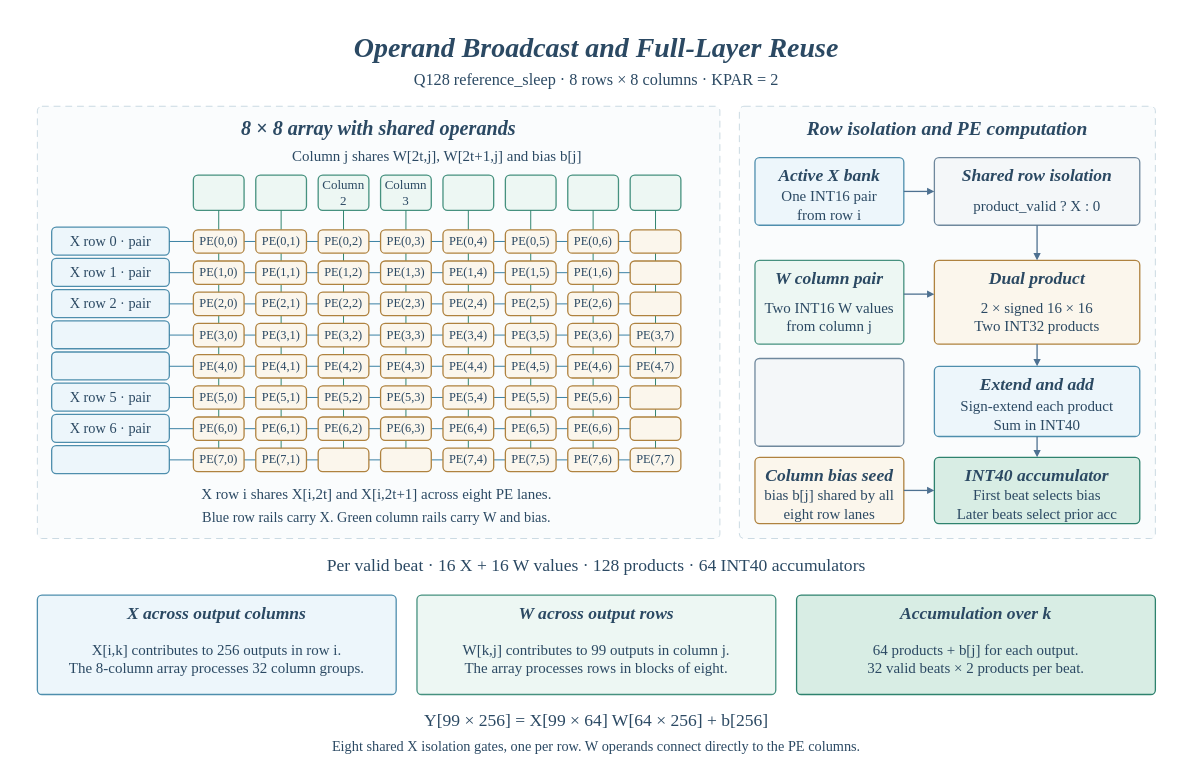
The diagram is 1192 pixels wide and 776 high, and some of its shapes have lost their labels. Here are the shapes that lost their labels. From the top down, the box of each, then its label:
(192, 174, 244, 211): Column 0
(255, 174, 307, 211): Column 1
(442, 174, 494, 211): Column 4
(504, 174, 556, 211): Column 5
(567, 174, 619, 211): Column 6
(629, 174, 681, 211): Column 7
(629, 229, 681, 254): PE(0,7)
(629, 260, 681, 285): PE(1,7)
(629, 291, 681, 316): PE(2,7)
(51, 320, 170, 349): X row 3 · pair
(51, 351, 170, 380): X row 4 · pair
(629, 385, 681, 410): PE(5,7)
(754, 358, 904, 447): valid = product_valid first = first OR fused_seed PRODUCT_PIPE = 0
(629, 416, 681, 441): PE(6,7)
(51, 445, 170, 474): X row 7 · pair
(317, 447, 369, 472): PE(7,2)
(380, 447, 432, 472): PE(7,3)
